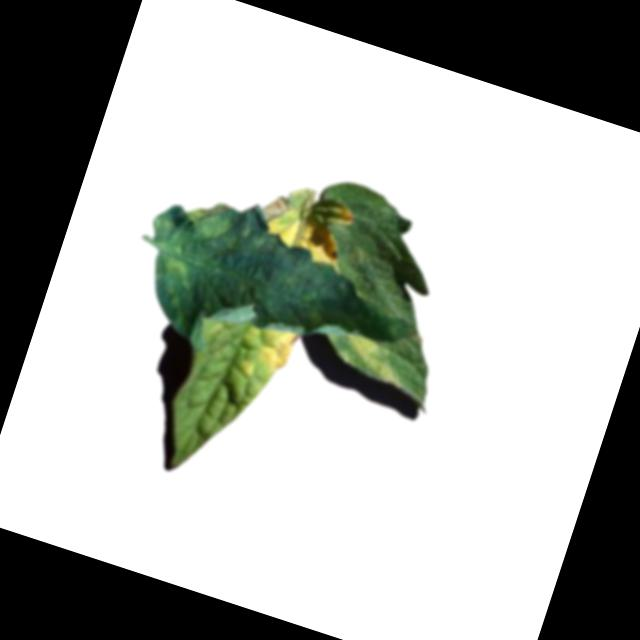Leaf_Mold: (260, 182, 358, 273), (231, 318, 299, 394), (177, 192, 253, 258), (330, 330, 406, 392)
